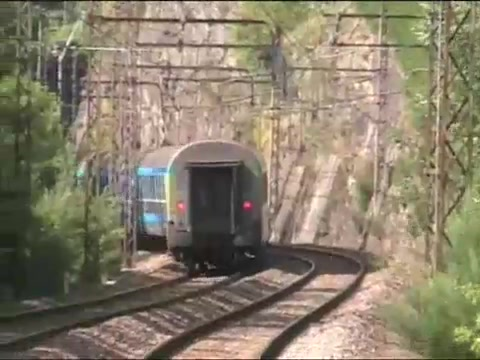train: (136, 138, 267, 271)
